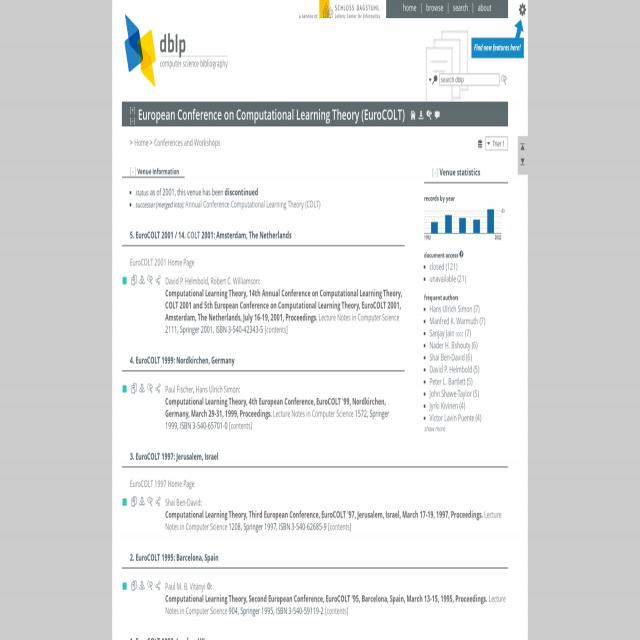button: (122, 14, 230, 88), (424, 203, 508, 240), (319, 0, 380, 18), (396, 0, 420, 18), (421, 0, 447, 16), (450, 0, 472, 18), (474, 0, 494, 18), (424, 424, 446, 434), (518, 2, 527, 18), (428, 74, 438, 85), (519, 155, 526, 167), (519, 141, 526, 152), (410, 109, 416, 121), (418, 109, 424, 121), (426, 109, 432, 121), (434, 109, 440, 121), (131, 274, 137, 286), (139, 274, 145, 286), (147, 274, 153, 286), (155, 274, 161, 286), (131, 383, 137, 394), (139, 383, 145, 394), (147, 383, 153, 394), (155, 383, 161, 394), (131, 496, 137, 507), (139, 496, 145, 507), (147, 496, 153, 507), (155, 496, 161, 507), (131, 580, 137, 591), (139, 580, 145, 591), (147, 580, 153, 591), (155, 580, 161, 591), (501, 74, 507, 85), (477, 138, 483, 148), (205, 582, 211, 590)
field: (439, 73, 500, 86), (486, 136, 508, 150)
